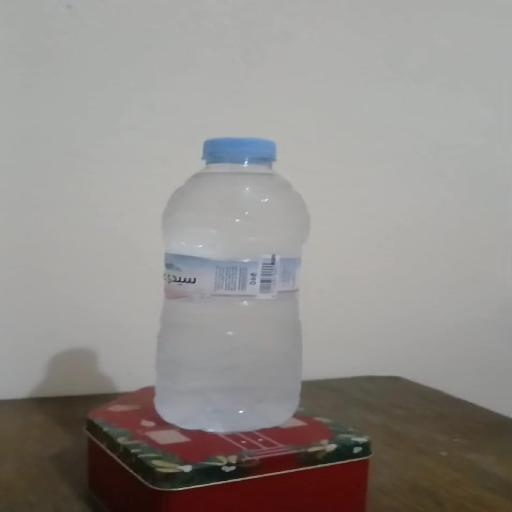bouteille conformite: (152, 142, 315, 432)
